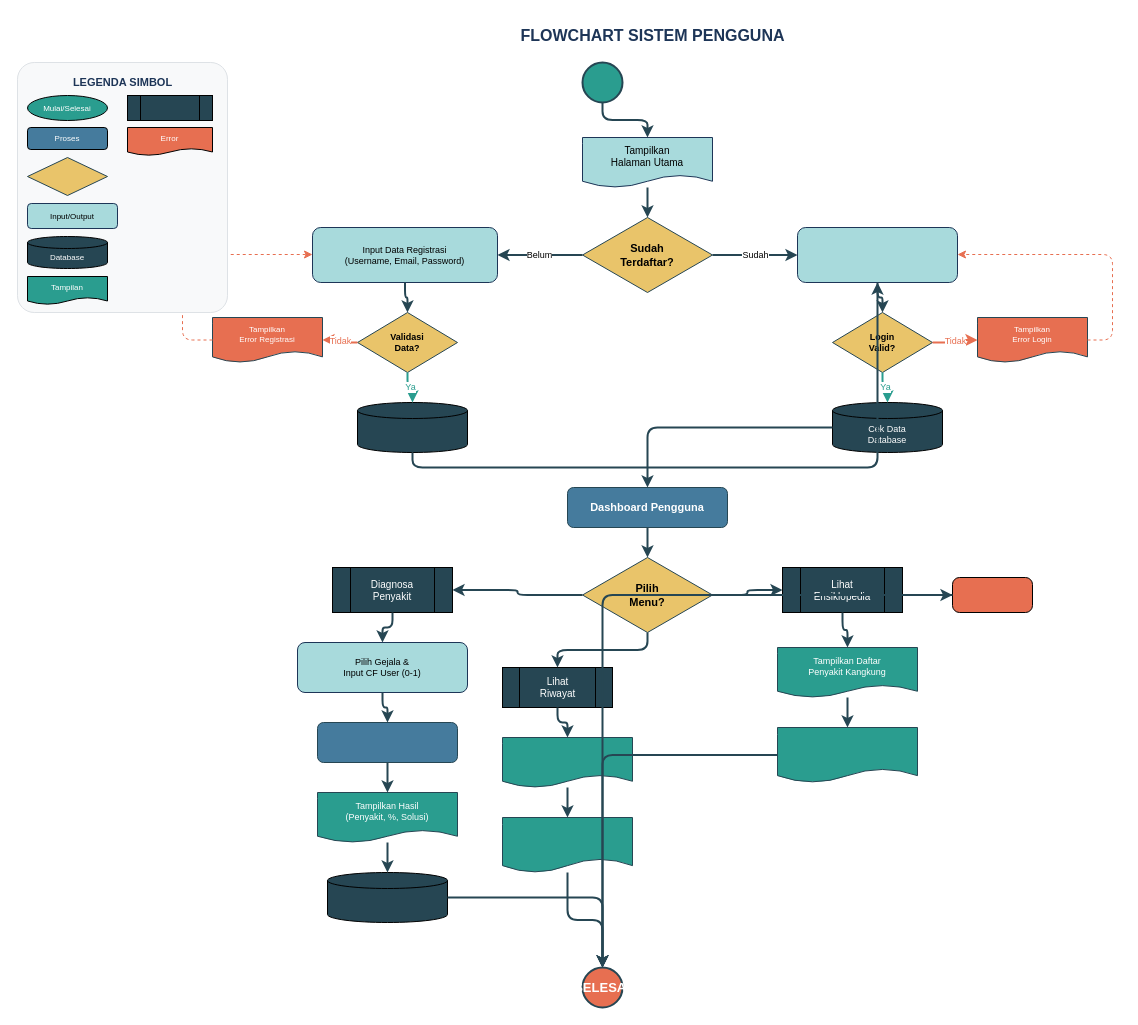
Some shapes in this 1138 by 1025 pixel diagram are drawn without their labels. Each missing label, with the centre of its shape:
"Input Username & Password" goes at point (877, 254).
"Keputusan" goes at point (67, 176).
"Logout" goes at point (992, 594).
"MULAI" goes at point (602, 82).
"Proses Perhitungan Certainty Factor" goes at point (387, 742).
"Simpan Data ke Database" goes at point (412, 427).
"Simpan Riwayat ke Database" goes at point (387, 897).
"Sub-Proses" goes at point (169, 107).
"Tampilkan Daftar Riwayat Diagnosa" goes at point (567, 762).
"Tampilkan Detail (Nama Ilmiah, Deskripsi, Solusi)" goes at point (847, 754).
"Tampilkan Detail (Penyakit, Gejala, CF, Tanggal)" goes at point (567, 844).
